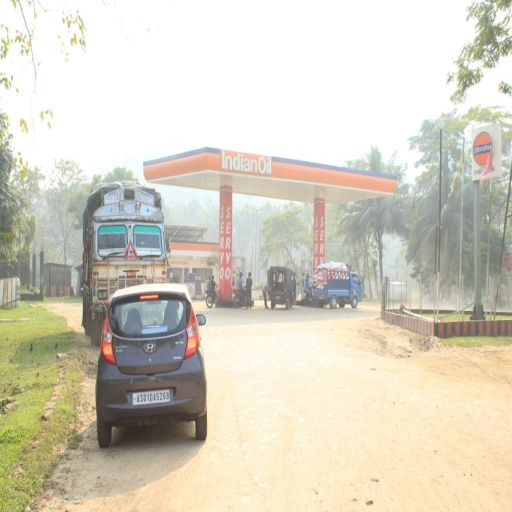roof: (141, 147, 401, 201)
